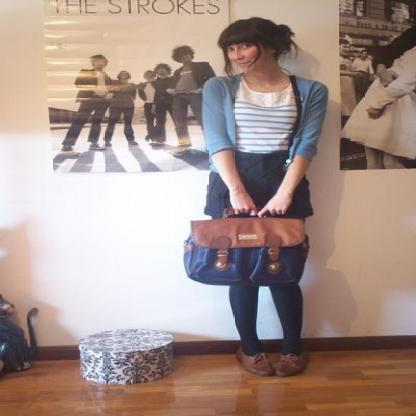bag: (184, 216, 311, 290)
jacket: (192, 62, 328, 158)
shirt: (233, 80, 295, 152)
shoe: (244, 335, 296, 356)
skirt: (204, 149, 311, 229)
